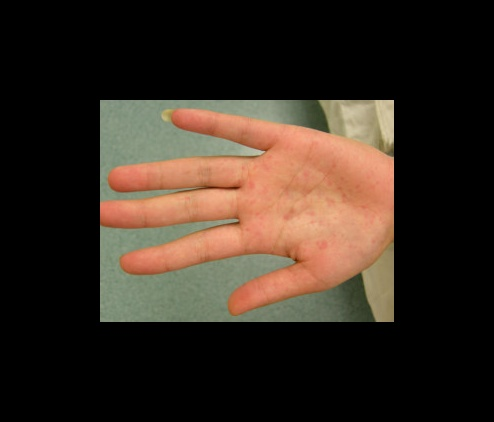SJS-TEN: (230, 133, 382, 262)
